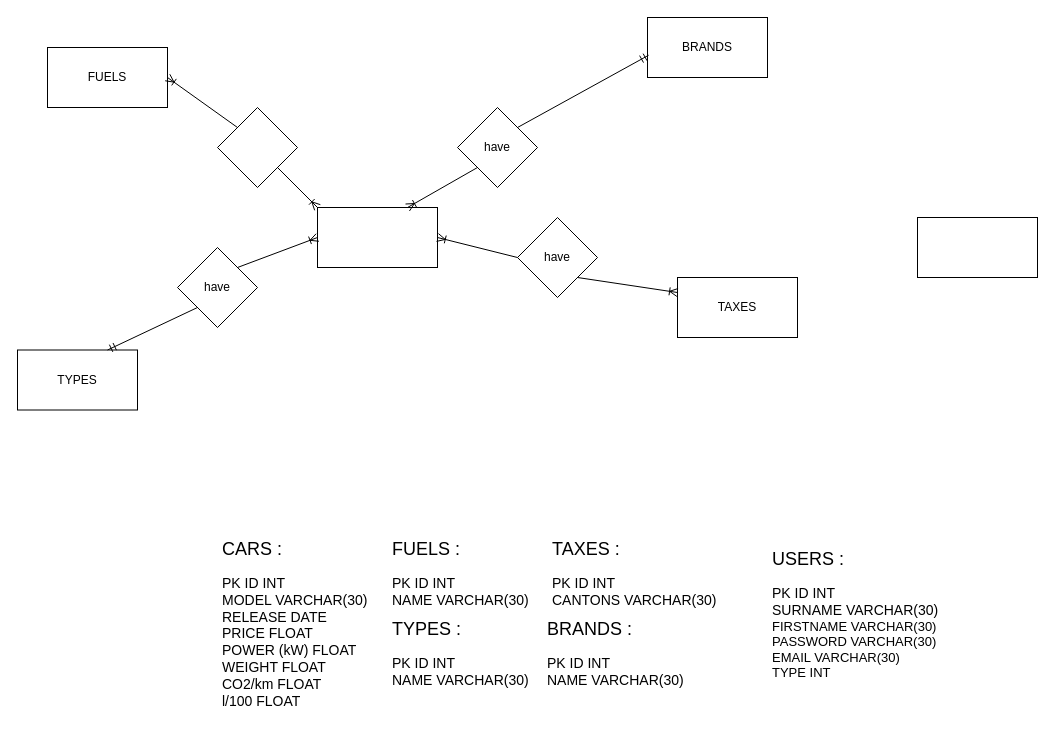
Some shapes in this 1055 by 735 pixel diagram are drawn without their labels. The centre of each missing label's shape, as x and y in pixels:
CARS: the point at 377,237
support: the point at 257,147
USERS: the point at 977,247
